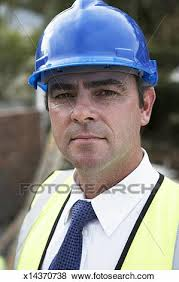Person_wearing_helmet: (23, 0, 159, 111)
